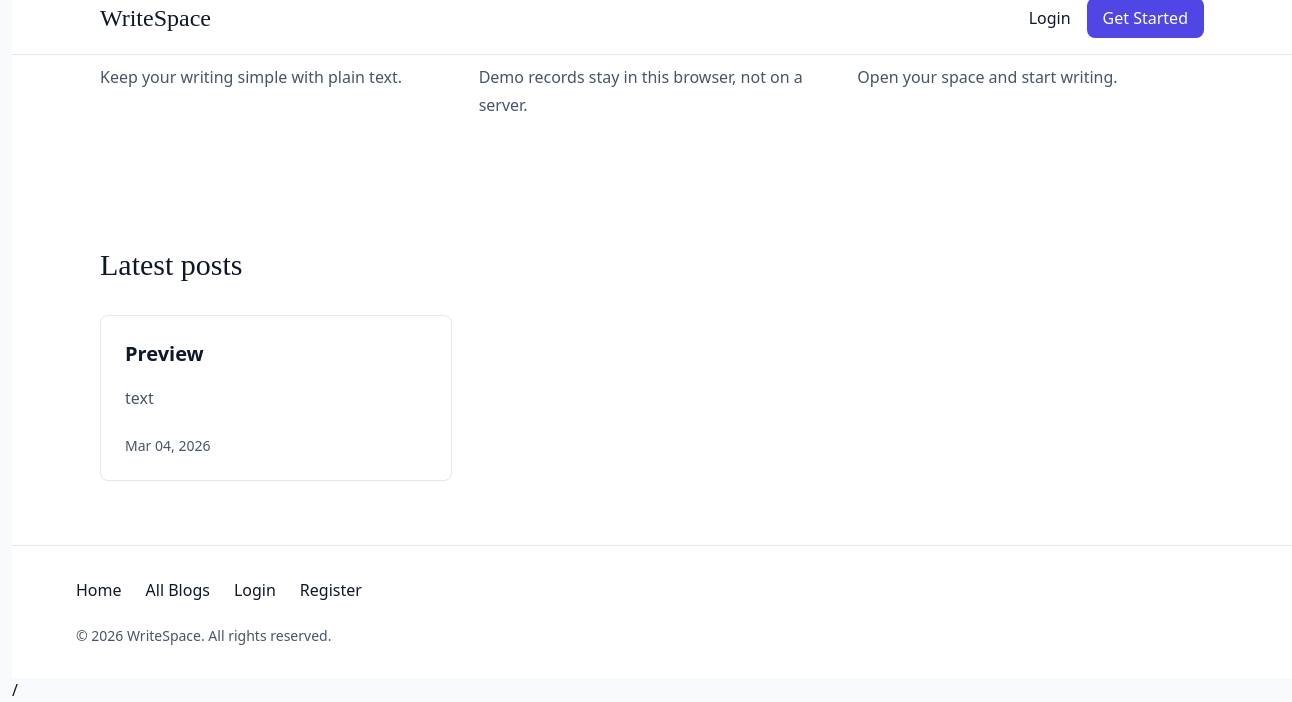
Test: wires landing/register and protects guest previews
This screenshot has width=1292, height=702.
(page scrolled)
Click the link "Preview" at (164, 354), box [125,340,204,367]
(page scrolled)
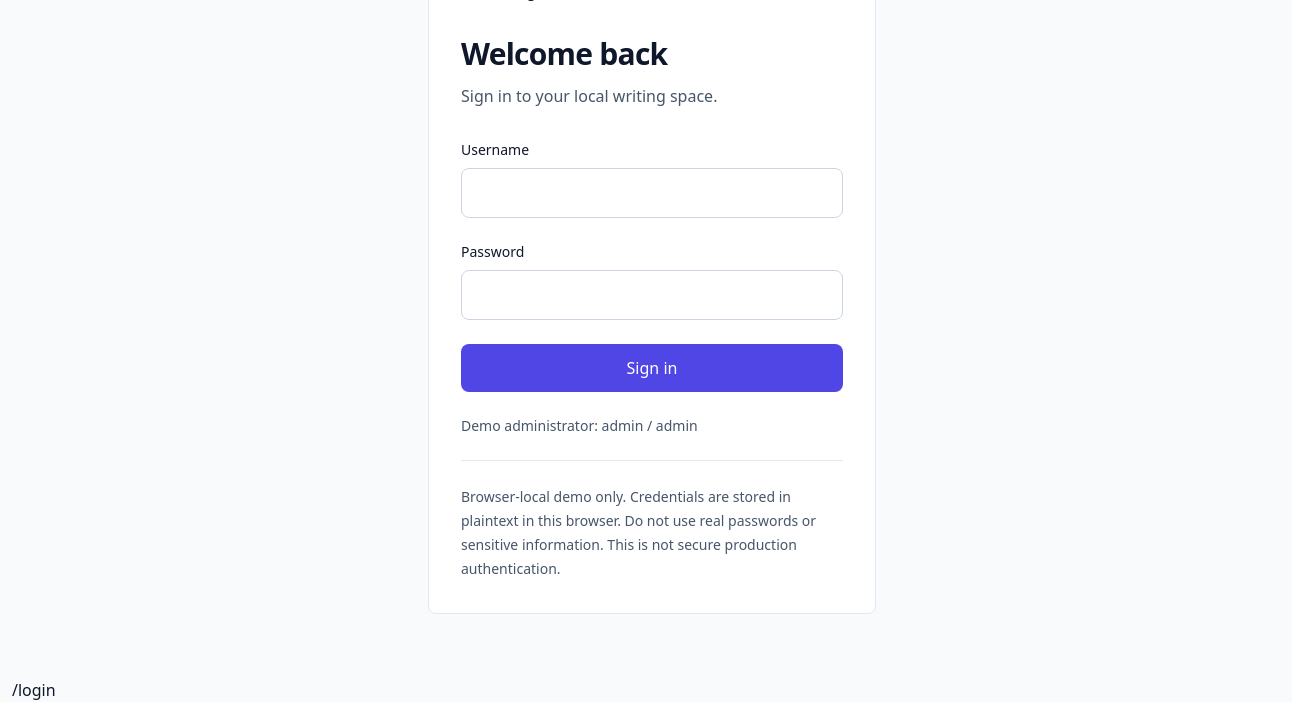
Now the text named "Location" reads "/login", box [12,679,56,701]
